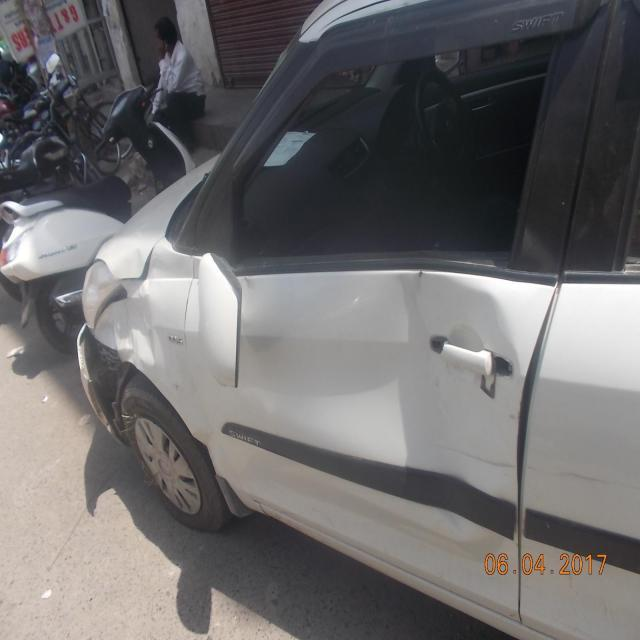damaged: (244, 278, 526, 493), (76, 259, 168, 432)
